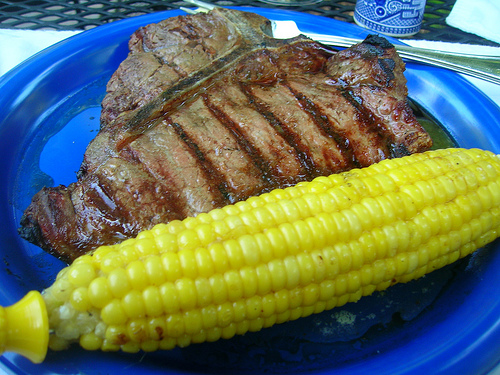corn: (53, 143, 499, 357)
